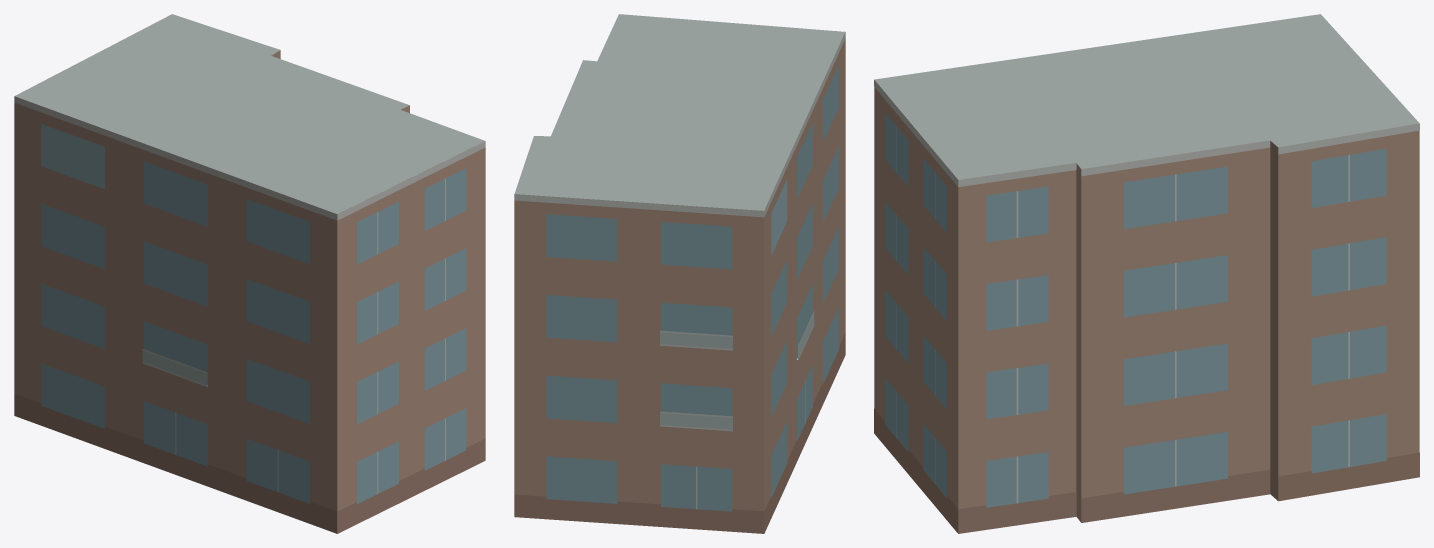
Rendered from survey-upis-32821085.glb.
The picture shows the model from 3 angles, left to right: view 1: azimuth 30°, elevation 25°; view 2: azimuth 150°, elevation 25°; view 3: azimuth 270°, elevation 25°; orthographic projection. The views are drawn at different scales.
Parts seen in each view (by area): view 1: survey-upis-32821085.tmp; view 2: survey-upis-32821085.tmp; view 3: survey-upis-32821085.tmp.
Boxes of the visible parts, x1,y1,x2,y2 form: survey-upis-32821085.tmp: (14, 14, 485, 533); survey-upis-32821085.tmp: (514, 14, 845, 533); survey-upis-32821085.tmp: (874, 14, 1419, 533).
Size of the model in its own units: 12.29 by 12.2 by 17.06.
